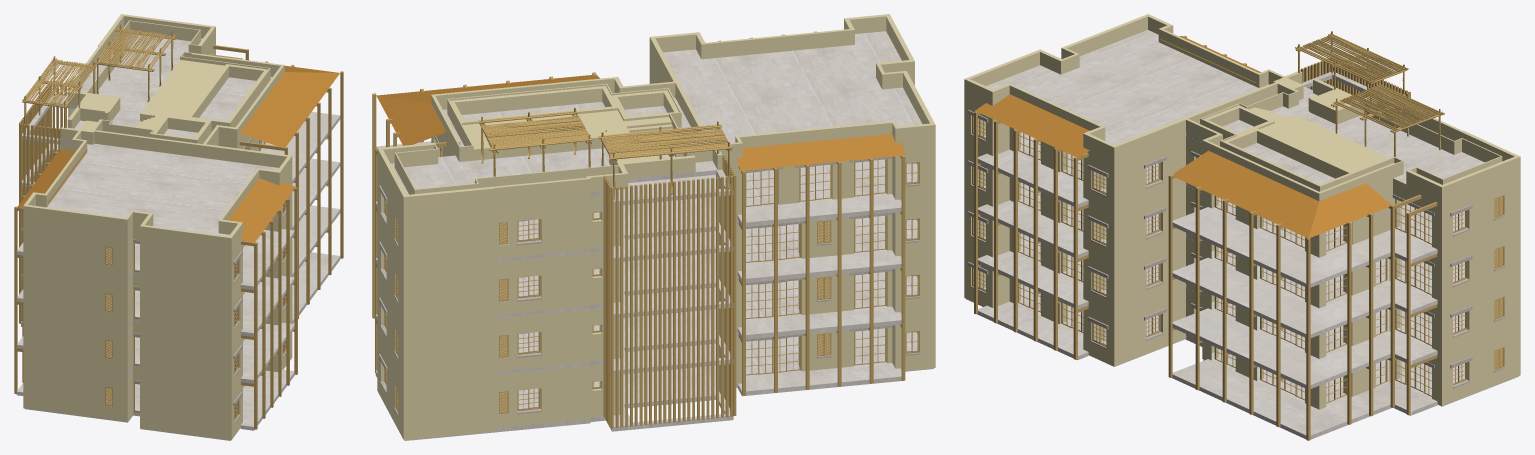
File: Residencial03.glb
3 views of the same model, side by side, from view 1: azimuth 30°, elevation 25°; view 2: azimuth 150°, elevation 25°; view 3: azimuth 270°, elevation 25° (orthographic). The views are drawn at different scales.
Visible parts, largest first — view 1: R03_Wall, R03_Floorplates, R03_Wall02, R03_Fachada, R03_Teja, R03_Cancel, R03_Cornisa; view 2: R03_Floorplates, R03_Wall, R03_Fachada, R03_Wall02, R03_Teja, R03_Cancel, R03_Cornisa; view 3: R03_Floorplates, R03_Wall, R03_Fachada, R03_Wall02, R03_Teja, R03_Cancel, R03_Cornisa.
Boxes of the visible parts, <box> form: R03_Wall: <box>25,14,292,440</box>; R03_Floorplates: <box>16,34,340,440</box>; R03_Wall02: <box>23,46,284,421</box>; R03_Fachada: <box>14,25,343,429</box>; R03_Teja: <box>17,65,339,243</box>; R03_Cancel: <box>133,140,286,420</box>; R03_Cornisa: <box>133,137,286,423</box>; R03_Floorplates: <box>375,31,933,440</box>; R03_Wall: <box>377,14,933,439</box>; R03_Fachada: <box>372,31,905,428</box>; R03_Wall02: <box>381,65,935,427</box>; R03_Teja: <box>376,33,905,170</box>; R03_Cancel: <box>384,149,919,410</box>; R03_Cornisa: <box>379,136,919,415</box>; R03_Floorplates: <box>966,30,1518,439</box>; R03_Wall: <box>964,15,1520,405</box>; R03_Fachada: <box>974,31,1503,440</box>; R03_Wall02: <box>1009,14,1504,409</box>; R03_Teja: <box>975,36,1390,238</box>; R03_Cancel: <box>972,115,1467,403</box>; R03_Cornisa: <box>967,110,1504,388</box>.
Size of the model in its own units: 33.51 by 18.66 by 37.84.
Materials: 5 (2 with a texture image).
